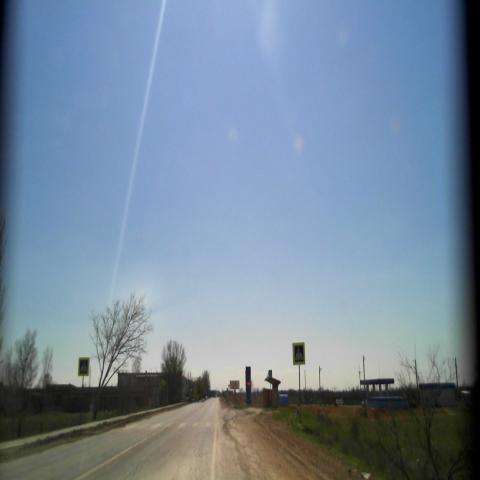5_19_1: (292, 341, 306, 364), (78, 357, 90, 375)
